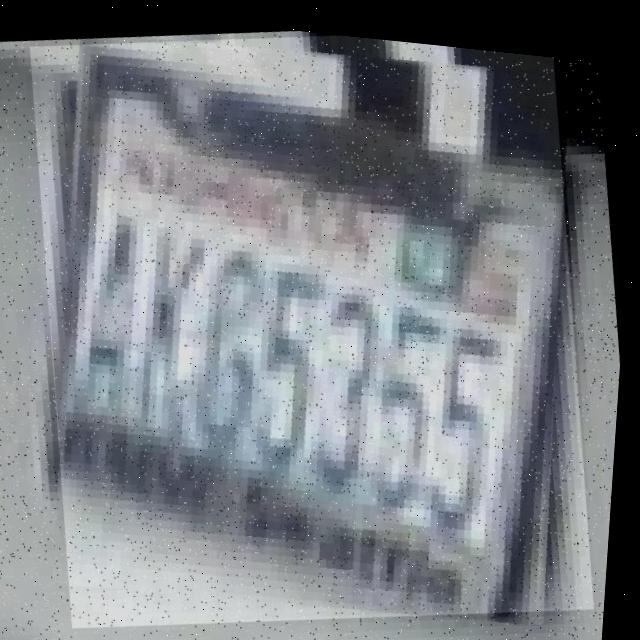LicensePlate: (1, 3, 630, 640)
